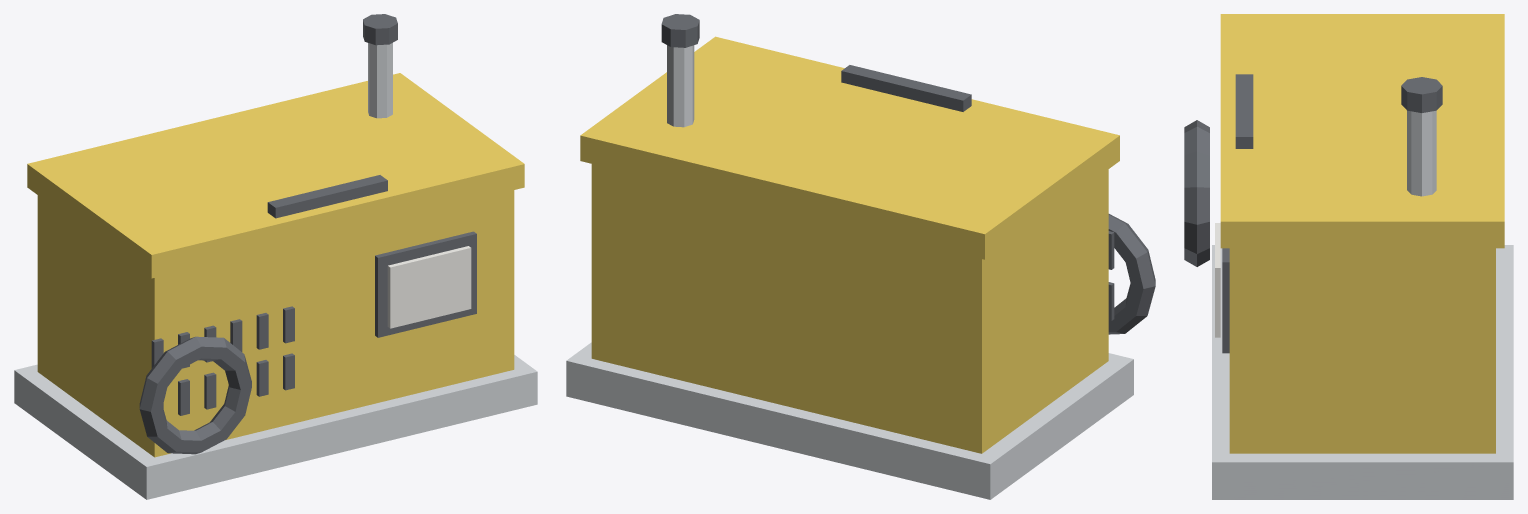
The model's file is hot-air-balloon-festival-event-generator-set-7fb5f99a__38520.glb.
The picture shows the model from 3 angles, left to right: view 1: azimuth 30°, elevation 25°; view 2: azimuth 150°, elevation 25°; view 3: azimuth 270°, elevation 25°; orthographic projection. The views are drawn at different scales.
Parts seen in each view (by area): view 1: event-generator-set-canvasD, lid-canopy/canvasD, event-generator-set-steel, event-generator-set-charcoal, event-generator-set-canvasB, lid-canopy/charcoal; view 2: event-generator-set-canvasD, lid-canopy/canvasD, event-generator-set-steel, event-generator-set-charcoal, lid-canopy/charcoal; view 3: lid-canopy/canvasD, event-generator-set-canvasD, event-generator-set-steel, event-generator-set-charcoal, lid-canopy/charcoal, event-generator-set-canvasB.
Part boxes in pixels (x1,y1,x2,y2): event-generator-set-canvasD: (37, 190, 514, 457); lid-canopy/canvasD: (27, 73, 524, 278); event-generator-set-steel: (14, 43, 537, 499); event-generator-set-charcoal: (139, 14, 476, 454); event-generator-set-canvasB: (387, 246, 471, 328); lid-canopy/charcoal: (267, 175, 387, 218); event-generator-set-canvasD: (591, 164, 1108, 453); lid-canopy/canvasD: (580, 36, 1119, 259); event-generator-set-steel: (566, 45, 1133, 499); event-generator-set-charcoal: (661, 14, 1155, 334); lid-canopy/charcoal: (841, 65, 971, 111); lid-canopy/canvasD: (1220, 14, 1504, 248); event-generator-set-canvasD: (1229, 248, 1495, 453); event-generator-set-steel: (1212, 110, 1513, 499); event-generator-set-charcoal: (1184, 77, 1442, 353); lid-canopy/charcoal: (1235, 74, 1253, 148); event-generator-set-canvasB: (1215, 223, 1220, 337).
Size of the model in its own units: 1.8 by 1.41 by 1.11.
